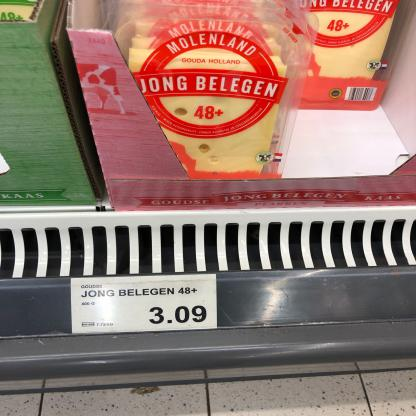prtg: (72, 275, 218, 335)
